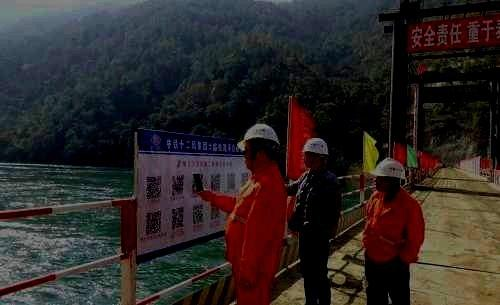helmet: (237, 124, 279, 172), (370, 157, 405, 192), (300, 138, 329, 168)
